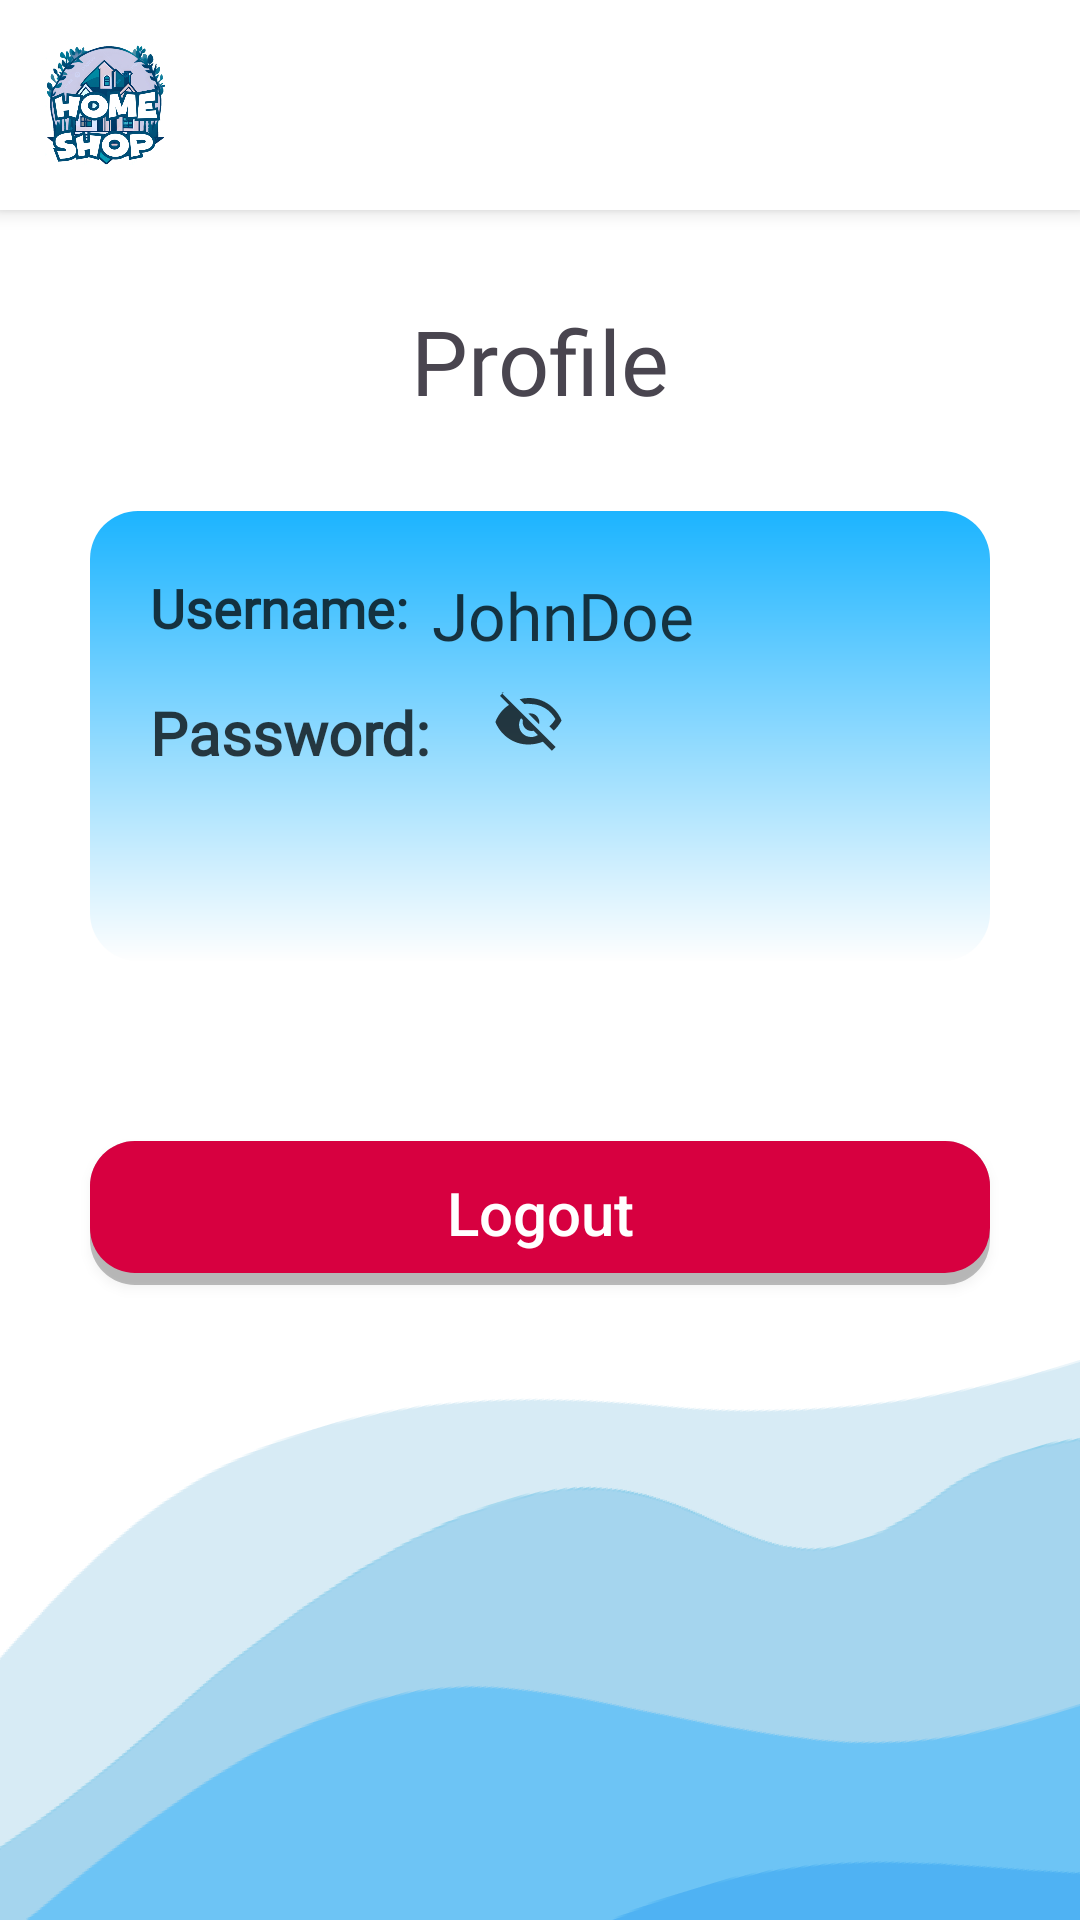

Locate icon controls on the screen. Image size 1080 × 1920, boxes as (x1, y1, x2, y2).
visibility off: (485, 692, 575, 751)
